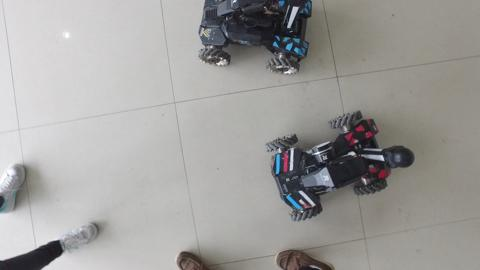chariot: (268, 109, 418, 228), (193, 1, 315, 79)
